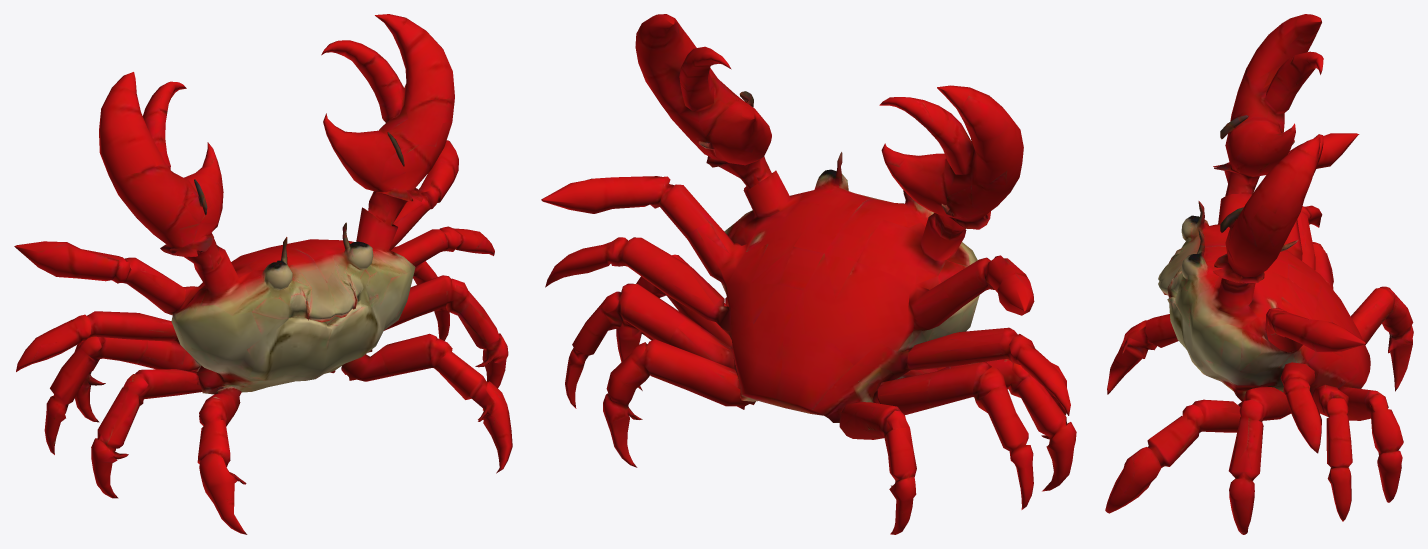
File: crab.glb
3 renders of one model, left to right at view 1: azimuth 30°, elevation 25°; view 2: azimuth 150°, elevation 25°; view 3: azimuth 270°, elevation 25°, orthographic. The views are drawn at different scales.
Size of the model in its own units: 0.9561 by 0.7363 by 0.5527.
Materials: 1 (1 with a texture image).
